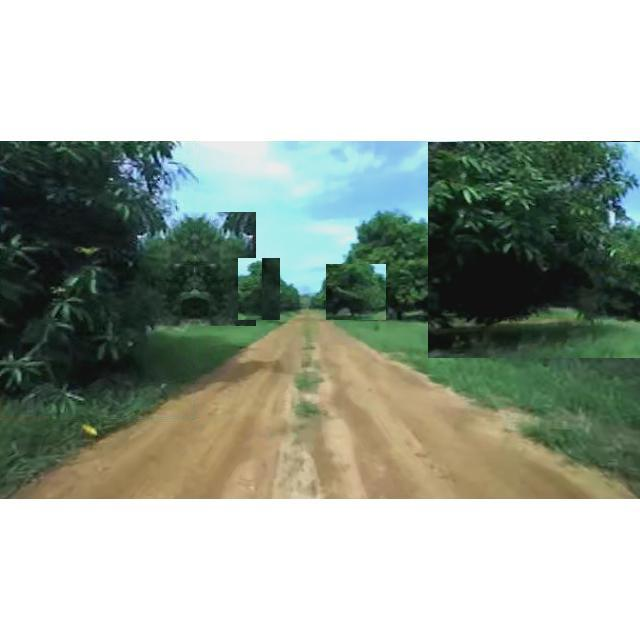direk: (0, 143, 194, 419), (428, 142, 640, 358), (347, 203, 473, 325), (134, 212, 256, 326), (326, 264, 386, 320), (238, 258, 280, 320)
